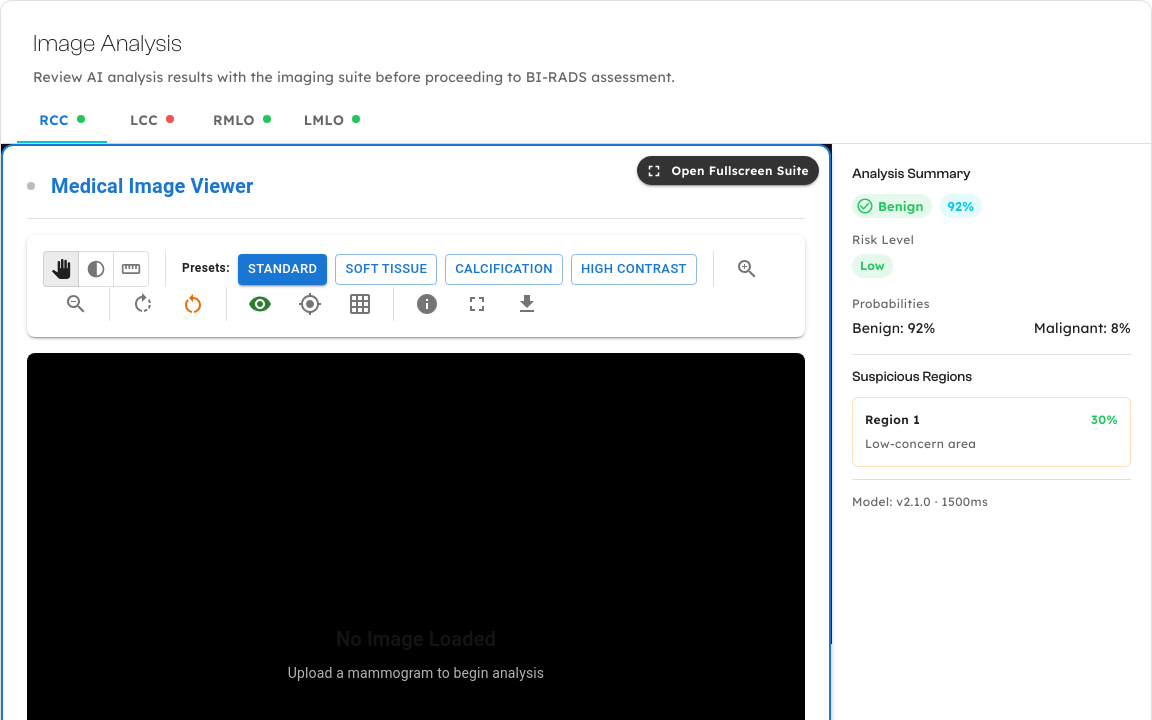
Test: WorkflowAnalysisSuite — Findings Sidebar › should update sidebar content when switching tabs
# Switch to LCC (malignant, 78%)
Click the tab "LCC".
click(152, 119)  # box [107, 95, 197, 143]
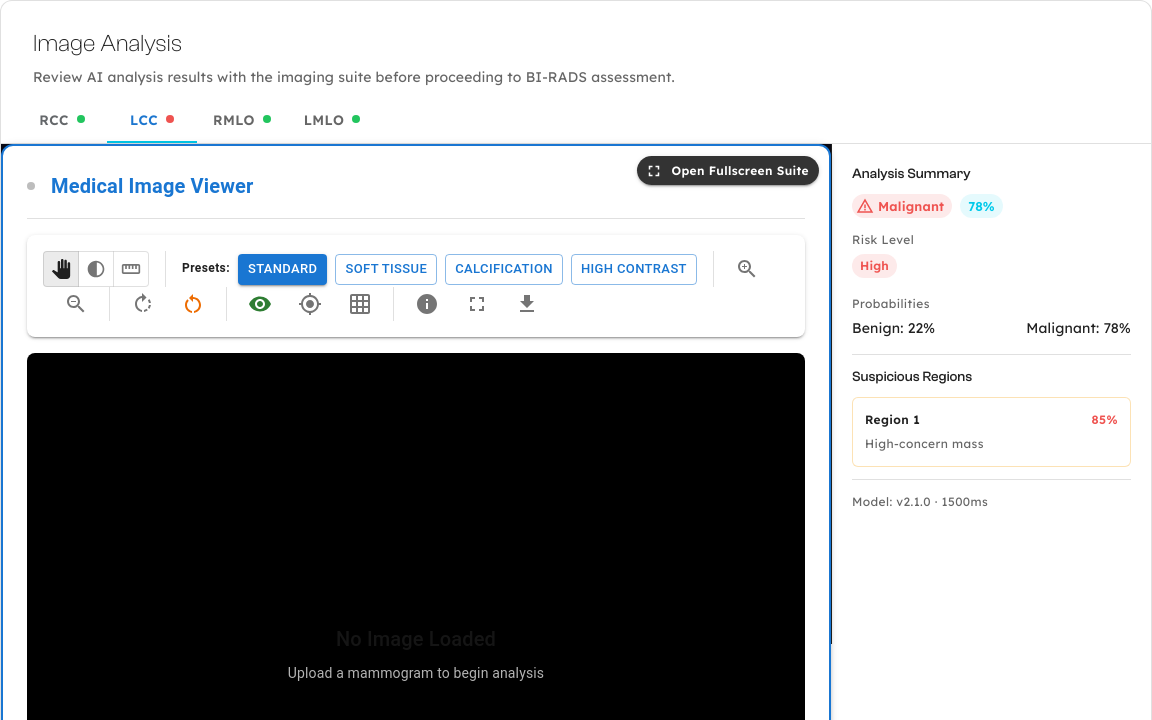
Now the text "Malignant" is shown, box [878, 198, 944, 214]
Now the text "78%" is shown, box [968, 198, 995, 214]
Now the text "High-concern mass" is shown, box [865, 436, 984, 451]
